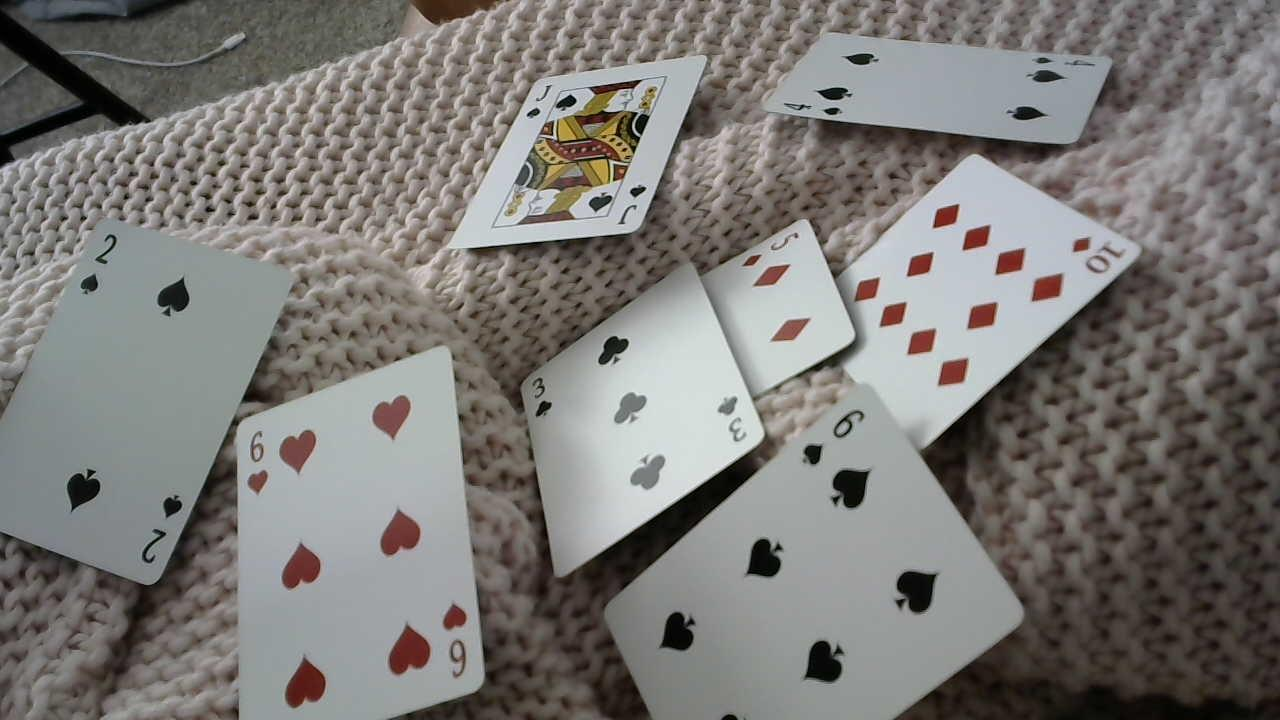10D: (1066, 229, 1128, 281)
2S: (73, 224, 126, 302), (139, 490, 187, 574)
4C: (709, 389, 750, 446), (527, 365, 557, 424)
4S: (773, 96, 847, 124), (1028, 49, 1101, 71)
5D: (738, 223, 804, 272)
6H: (438, 596, 474, 683), (242, 429, 274, 497)
6S: (797, 401, 868, 473)
JS: (614, 180, 647, 233), (522, 76, 554, 125)
